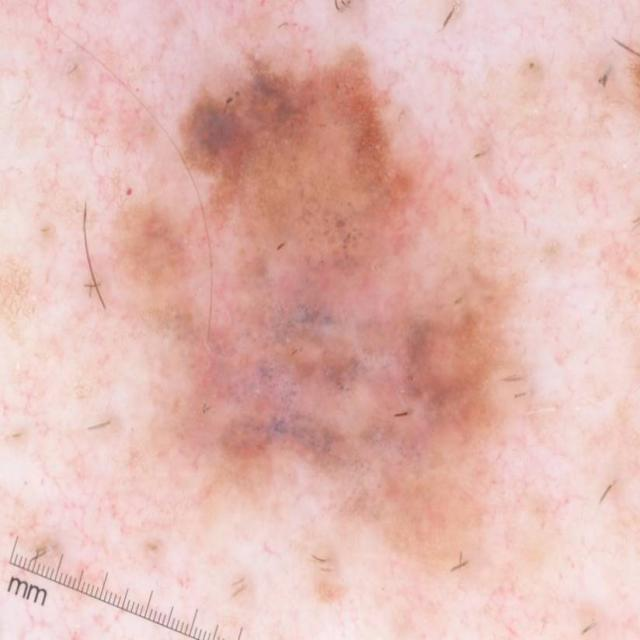Melanoma: (85, 45, 539, 542)
